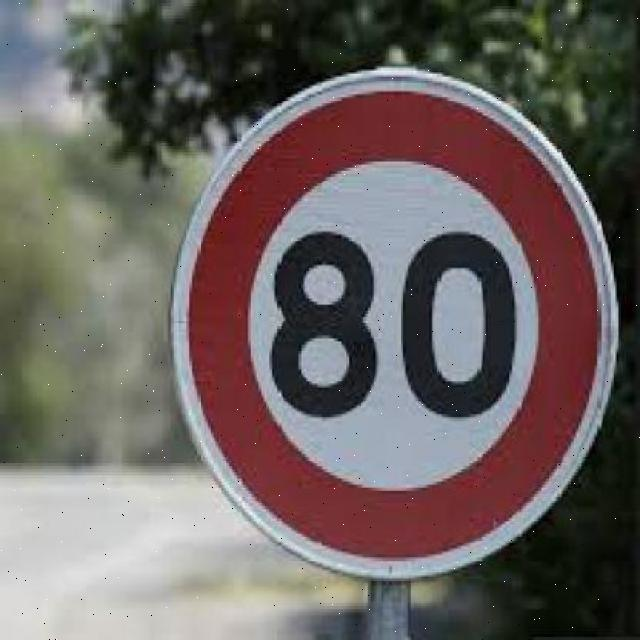speed limit 80: (165, 64, 619, 580)
